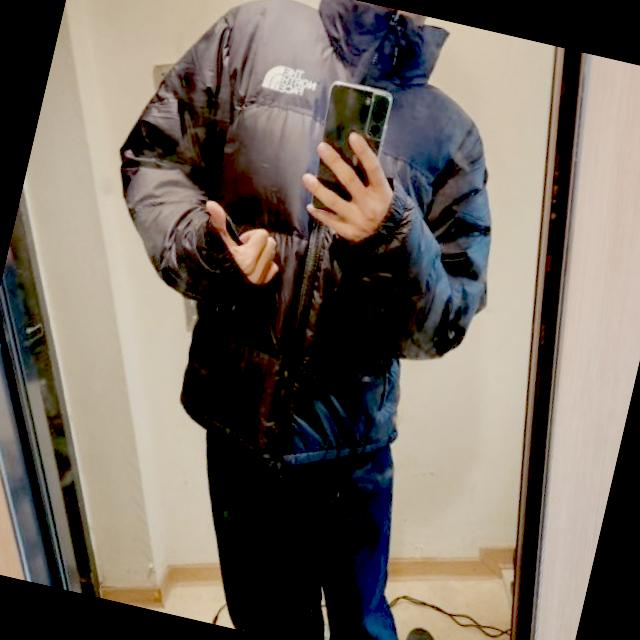denimpants: (161, 411, 457, 640)
padding: (57, 0, 538, 502)
